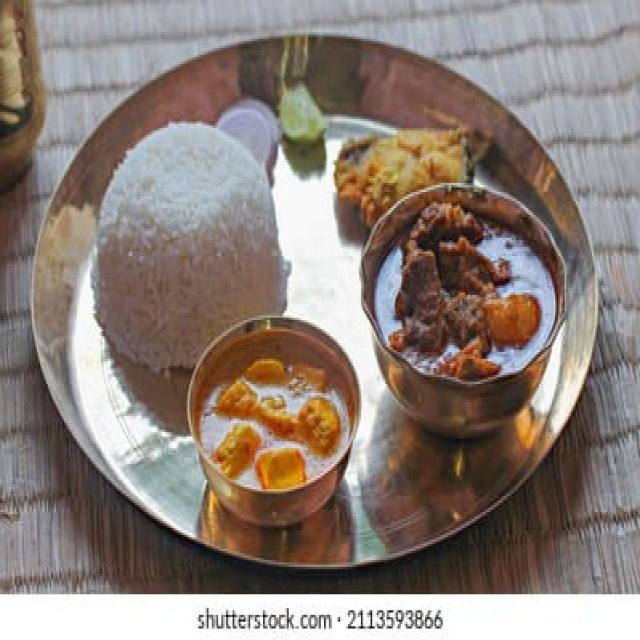non veg meals: (82, 76, 573, 526)
